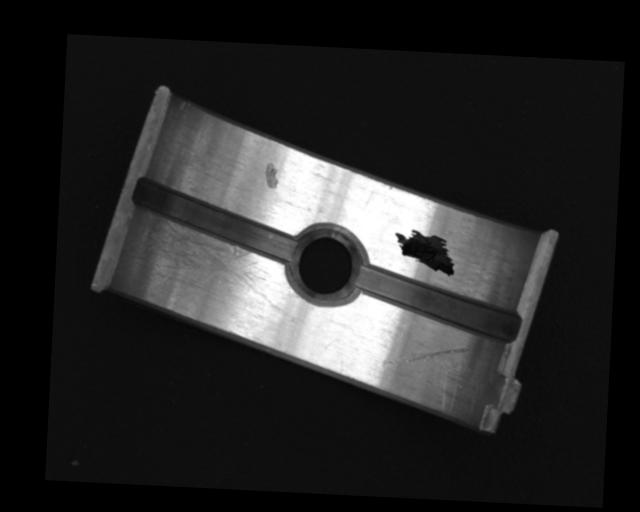blot: (392, 227, 456, 278)
bruise: (263, 161, 280, 189)
gap: (129, 177, 300, 266), (351, 263, 523, 343)
hole: (283, 224, 365, 305)
nick: (381, 342, 470, 372)
scratch: (127, 213, 284, 311)
